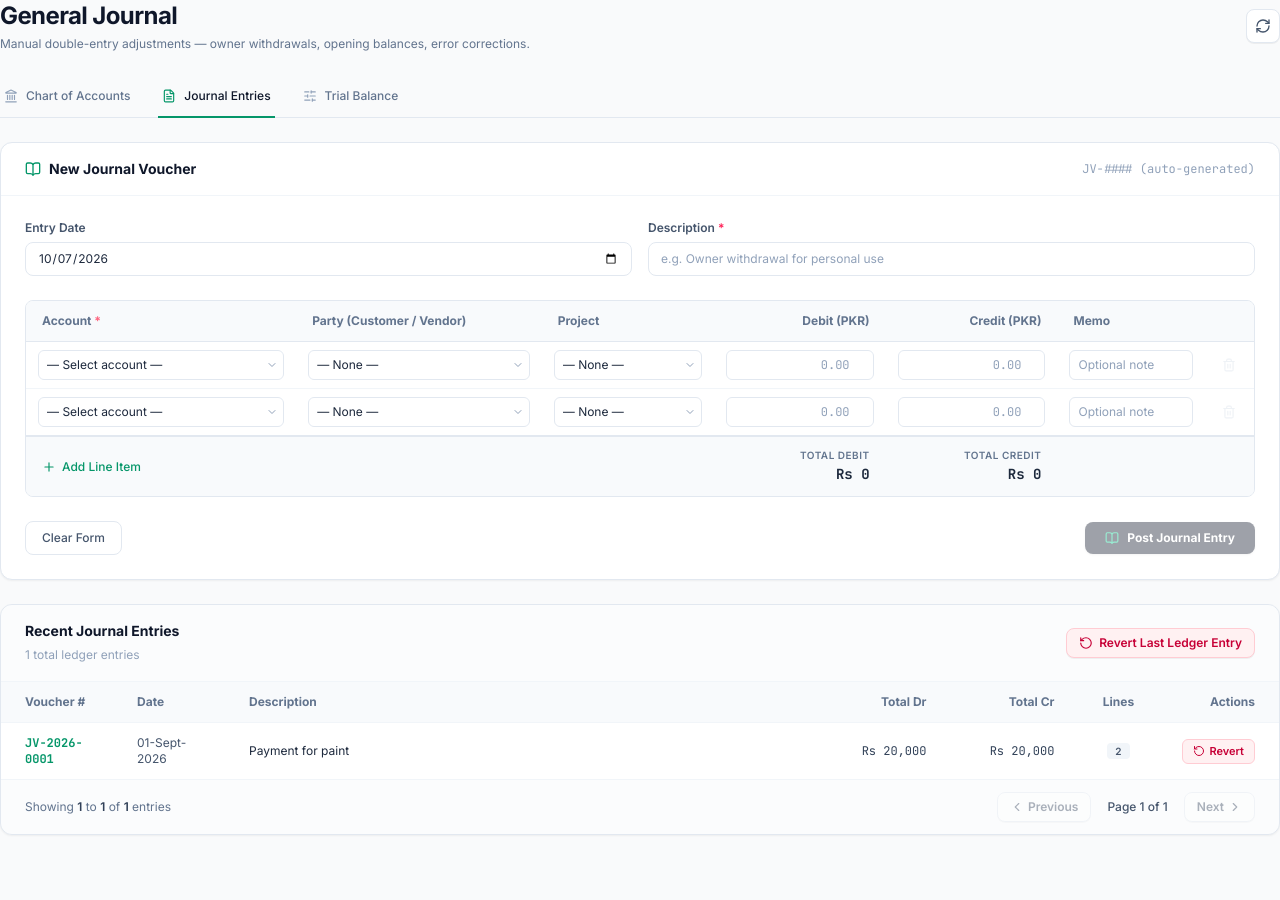
Test: JournalEntryForm / JournalsPage Component › 9. opens row Revert modal and executes reversal for a specific entry
Click the button with test id "revert-entry-btn-j-1": (1219, 751) [1182,739,1255,764]
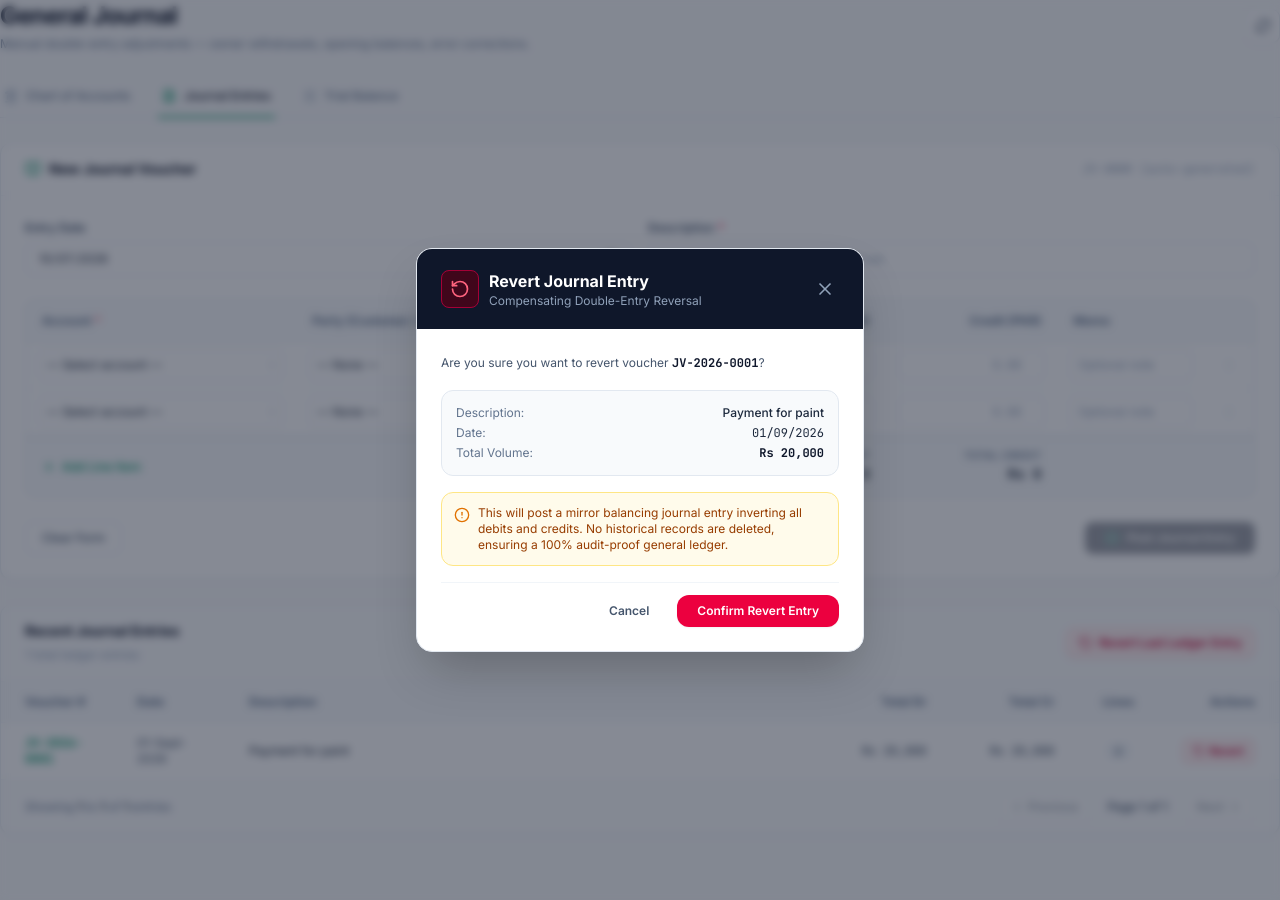
Expected: the text "Are you sure you want to revert voucher JV-2026-0001?" is shown, [441,355,764,371]
Click the button with test id "confirm-revert-entry-btn": (758, 611) [677,595,839,627]
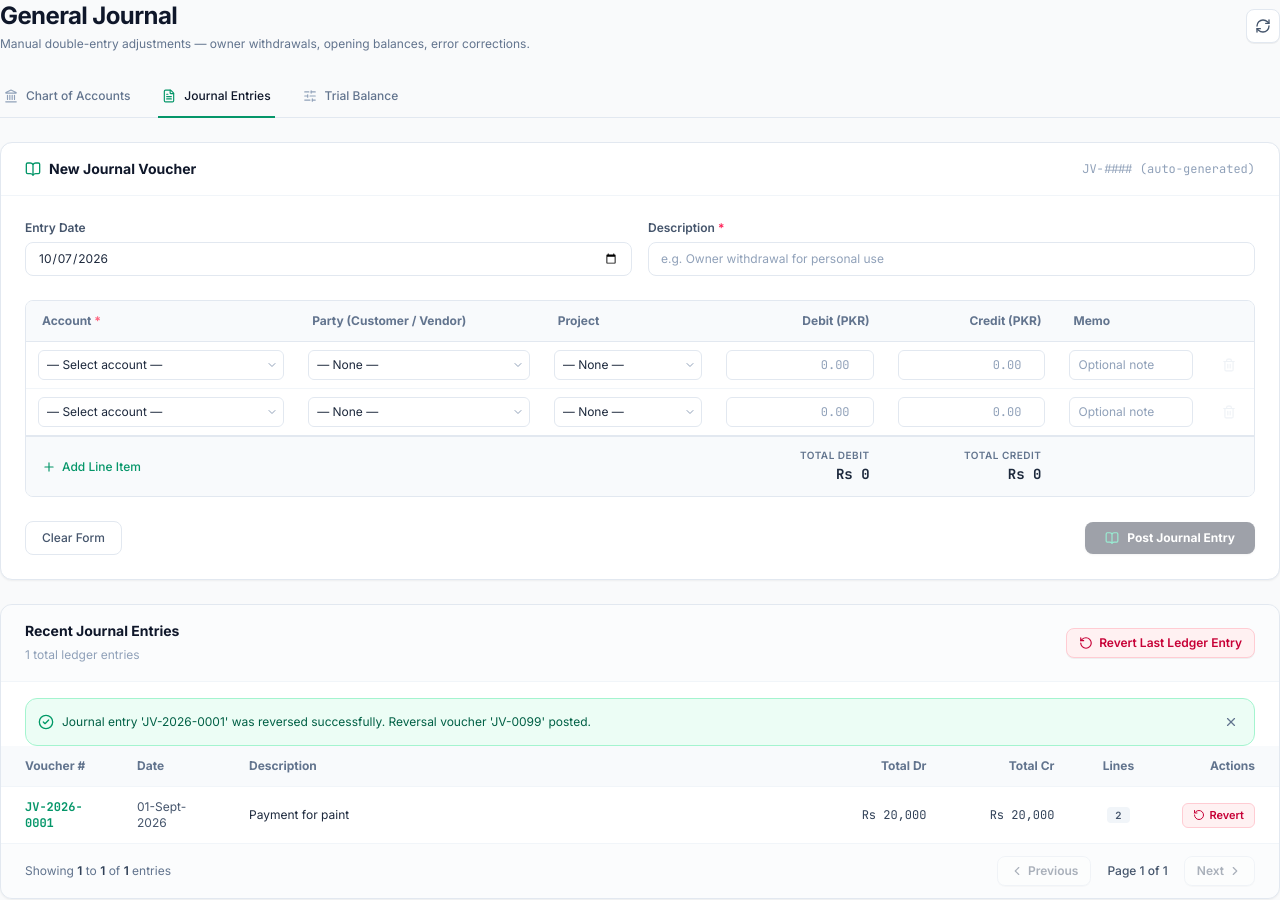
Expected: the text "was reversed successfully" is shown, [62,714,591,729]
